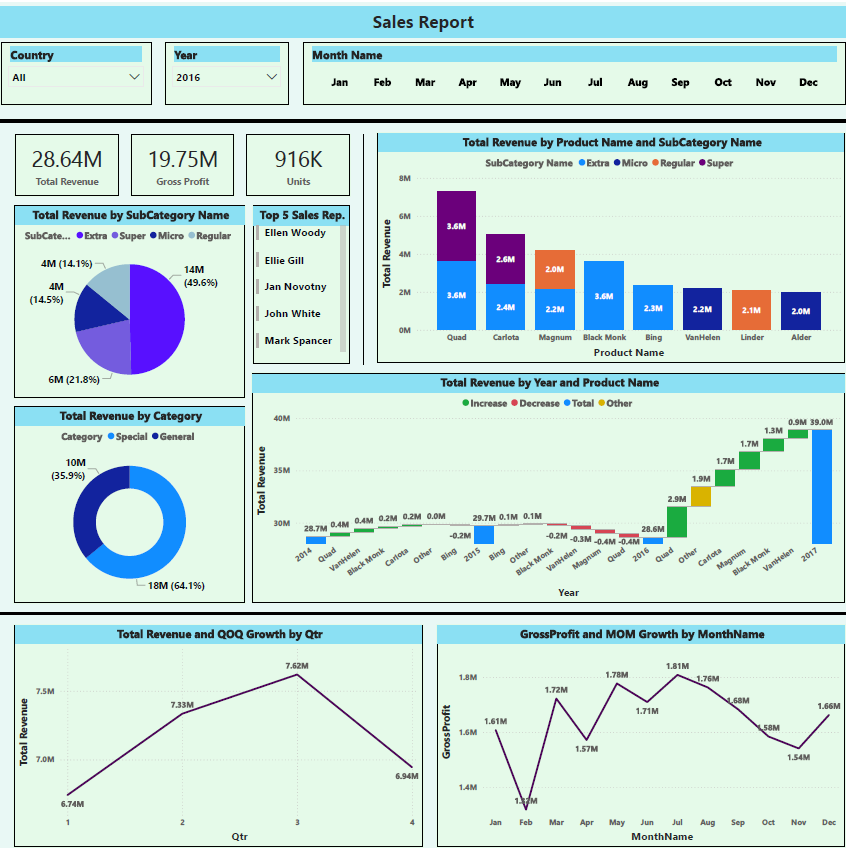

This screenshot's page, from the dashboard's own definition file:
{"tool":"powerbi","page":{"name":"Page 1","canvas":[1300,1300],"ordinal":0},"visuals":[{"type":"textbox","box":[0,4.8,1299.5,47.7],"z":0},{"type":"slicer","fields":{"Values":["Geography.Country"]},"box":[0,60.4,231.9,96.9],"z":1000},{"type":"slicer","fields":{"Values":["DateMaster.Year"]},"box":[252.6,60.4,190.6,96.9],"z":2000},{"type":"shape","box":[0,165.2,1299.5,31.8],"z":3000},{"type":"card","fields":{"Values":["Sales.Total Revenue"]},"box":[21.4,201.8,160.4,95.3],"z":4000},{"type":"card","fields":{"Values":["Sales.GrossProfit"]},"box":[199.3,201.8,160.4,95.3],"z":5000},{"type":"card","fields":{"Values":["Sales.Units"]},"box":[377.2,201.8,160.4,95.3],"z":6000},{"type":"shape","box":[545.7,201.9,22,353.8],"z":7000},{"type":"slicer","fields":{"Values":["DateMaster.MonthName"]},"box":[463.9,60.4,835.6,96.9],"z":8000},{"type":"pieChart","fields":{"Category":["SubCategory.SubCategory Name"],"Y":["Sales.Total Revenue"]},"box":[20.7,311.4,355.8,297.1],"z":9000},{"type":"donutChart","fields":{"Y":["Sales.Total Revenue"],"Category":["Categories.Category"]},"box":[20.7,619.6,355.8,303.4],"z":10000},{"type":"multiRowCard","title":"Top 5 Sales Rep.","fields":{"Values":["Sales rep.Sales Rep Name"]},"box":[386.5,310.8,149.9,243.9],"z":11000},{"type":"waterfallChart","fields":{"Category":["DateMaster.Year"],"Breakdown":["Product.ProductName"],"Y":["Sales.Total Revenue"]},"box":[386,568.7,913.4,354.3],"z":12000},{"type":"columnChart","fields":{"Category":["Product.ProductName"],"Y":["Sales.Total Revenue"],"Series":["SubCategory.SubCategory Name"]},"box":[579,200,720,354],"z":13000},{"type":"lineChart","fields":{"Y":["Sales.Total Revenue"],"Category":["DateMaster.Qtr"]},"box":[20.7,956.3,629.1,343.1],"z":14000},{"type":"lineChart","fields":{"Y":["Sales.GrossProfit"],"Category":["DateMaster.MonthName"]},"box":[670.4,956.3,629.1,343.1],"z":15000},{"type":"shape","box":[0,923,1299.5,31.8],"z":16000}]}

Visuals, with their boxes in screenshot pixels (x1, y1, x2, y2), scaled from the page's 1300x1300 canvas onto the 868x851 screenshot:
textbox: bbox(0, 3, 867, 34)
slicer - Geography.Country: bbox(0, 40, 155, 103)
slicer - DateMaster.Year: bbox(169, 40, 296, 103)
shape: bbox(0, 108, 867, 129)
card - Sales.Total Revenue: bbox(14, 132, 121, 194)
card - Sales.GrossProfit: bbox(133, 132, 240, 194)
card - Sales.Units: bbox(252, 132, 359, 194)
shape: bbox(364, 132, 379, 364)
slicer - DateMaster.MonthName: bbox(310, 40, 867, 103)
pieChart - SubCategory.SubCategory Name x Sales.Total Revenue: bbox(14, 204, 251, 398)
donutChart - Sales.Total Revenue x Categories.Category: bbox(14, 406, 251, 604)
"Top 5 Sales Rep." multiRowCard: bbox(258, 203, 358, 363)
waterfallChart - DateMaster.Year x Product.ProductName: bbox(258, 372, 867, 604)
columnChart - Product.ProductName x Sales.Total Revenue: bbox(387, 131, 867, 363)
lineChart - Sales.Total Revenue x DateMaster.Qtr: bbox(14, 626, 434, 850)
lineChart - Sales.GrossProfit x DateMaster.MonthName: bbox(448, 626, 867, 850)
shape: bbox(0, 604, 867, 625)
